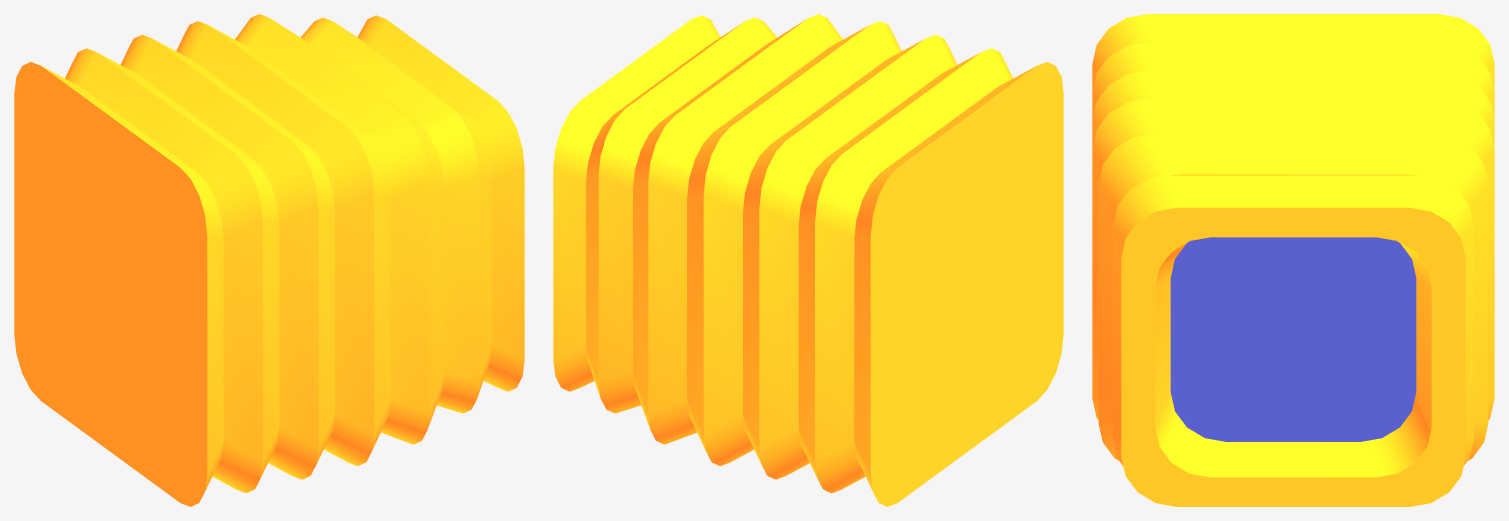
File: gate .fbx
3 renders of one model, left to right at view 1: azimuth 30°, elevation 25°; view 2: azimuth 150°, elevation 25°; view 3: azimuth 270°, elevation 25°, orthographic. The views are drawn at different scales.
Visible parts, largest first — view 1: Cube.048; view 2: Cube.048; view 3: Cube.048.
Part boxes in pixels (bbox=[...]): Cube.048: bbox=[14, 14, 524, 506]; Cube.048: bbox=[553, 14, 1063, 506]; Cube.048: bbox=[1092, 14, 1494, 506].
Size of the model in its own units: 365 by 353 by 368.
